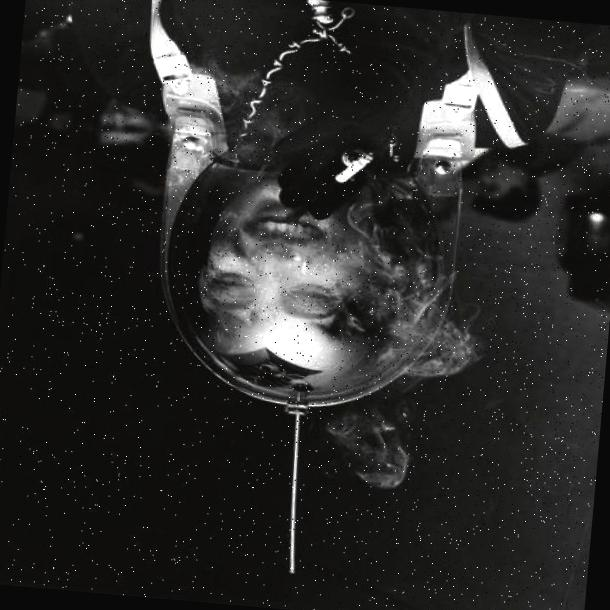smoke: (333, 228, 501, 391)
